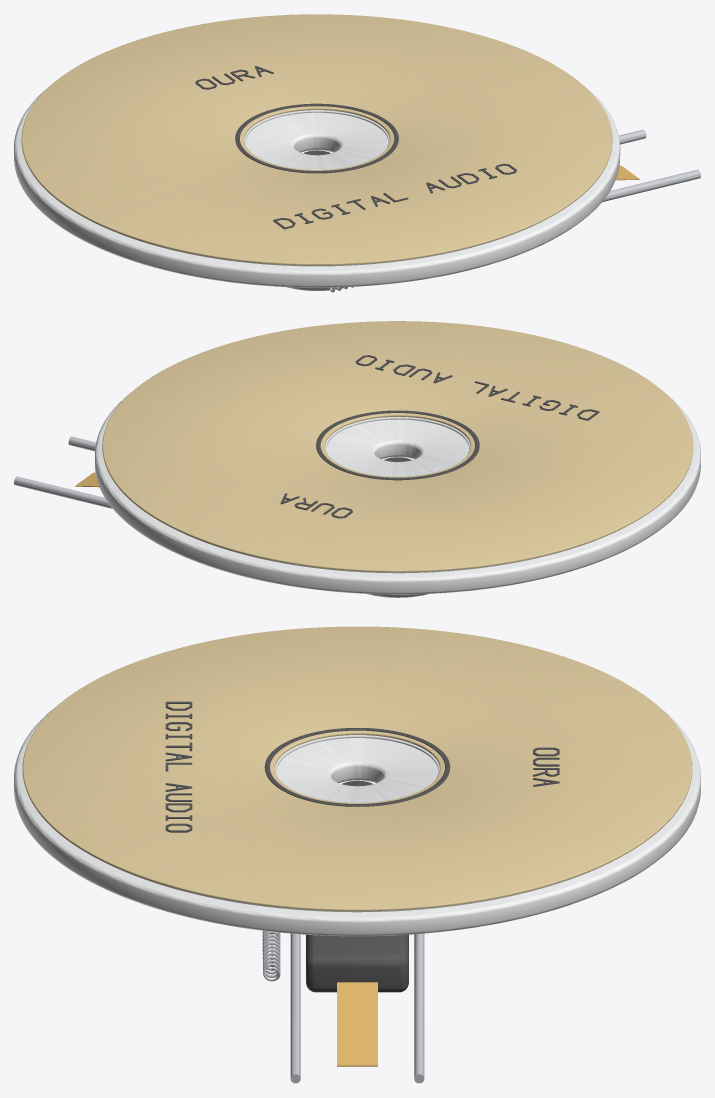
File: compact-disc.glb
3 renders of one model, top to bottom at view 1: azimuth 30°, elevation 25°; view 2: azimuth 150°, elevation 25°; view 3: azimuth 270°, elevation 25°, orthographic. The views are drawn at different scales.
Visible parts, largest first — view 1: label, polycarbonate, laser, aluminium; view 2: label, polycarbonate, laser, aluminium; view 3: label, polycarbonate, laser, aluminium.
Part boxes in pixels (box(x1,y1,x2,y2)): label: box(21, 14, 612, 265); polycarbonate: box(14, 86, 620, 287); laser: box(329, 129, 700, 292); aluminium: box(89, 110, 534, 266); label: box(102, 321, 693, 572); polycarbonate: box(95, 393, 700, 594); laser: box(14, 436, 112, 508); aluminium: box(177, 417, 624, 573); label: box(22, 626, 692, 911); polycarbonate: box(14, 708, 700, 936); laser: box(262, 930, 424, 1083); aluminium: box(110, 735, 604, 912).
Size of the model in its own units: 2.35 by 0.4731 by 2.
